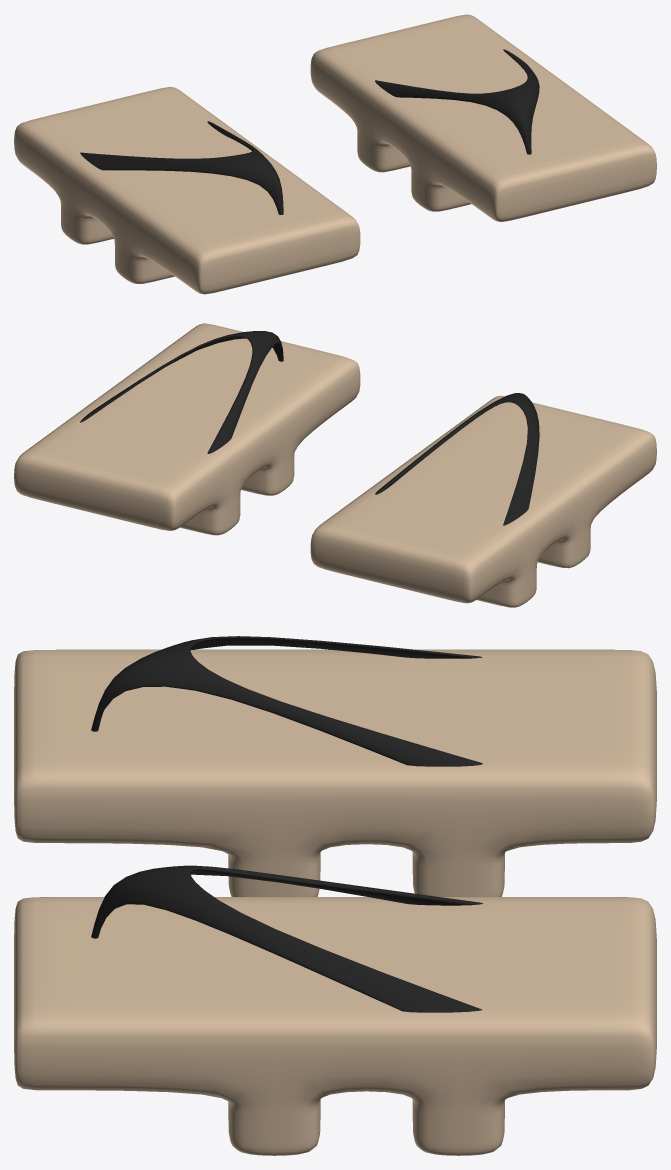
3 views of the same model, one above another, from view 1: azimuth 30°, elevation 25°; view 2: azimuth 150°, elevation 25°; view 3: azimuth 270°, elevation 25° (orthographic). The views are drawn at different scales.
Visible parts, largest first — view 1: geta; view 2: geta; view 3: geta.
Part boxes in pixels (box(x1,y1,x2,y2)): geta: box(14, 14, 656, 294); geta: box(14, 323, 656, 607); geta: box(14, 636, 656, 1155).
Size of the model in its own units: 0.818 by 0.2059 by 0.5795.
